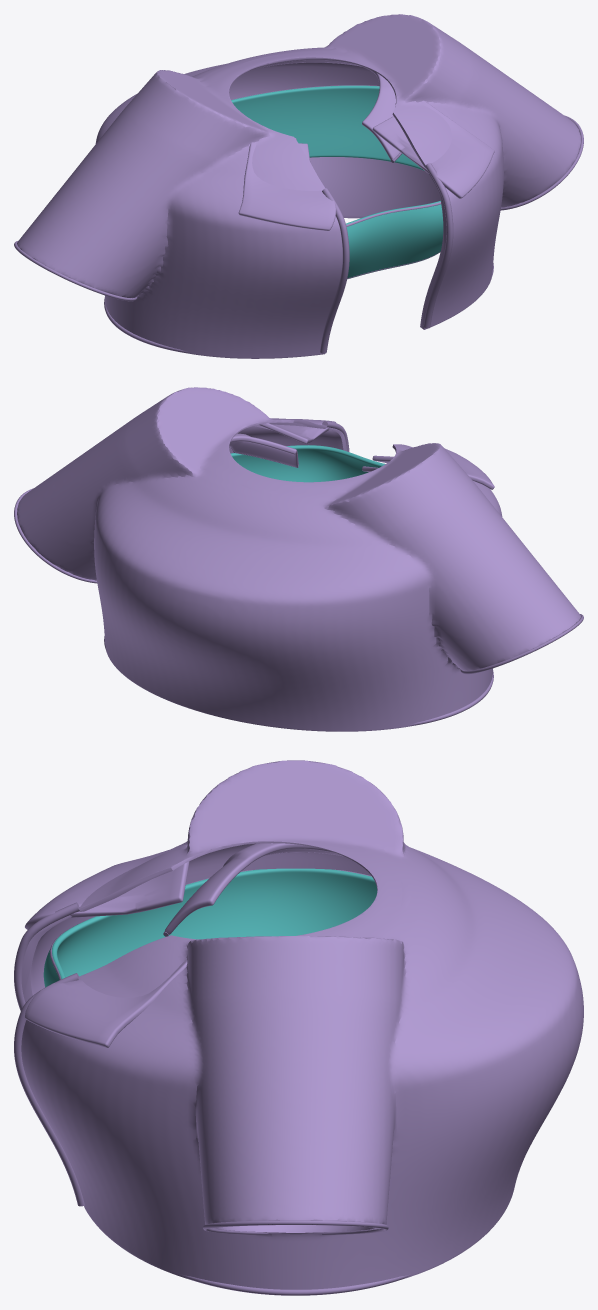
Rendered from Feminine-open-top.glb.
The picture shows the model from 3 angles, top to bottom: view 1: azimuth 30°, elevation 25°; view 2: azimuth 150°, elevation 25°; view 3: azimuth 270°, elevation 25°; orthographic projection. The views are drawn at different scales.
Parts seen in each view (by area): view 1: Clothing / open, Clothing / Bandeau underlayer, Open shirt / front collar leaf -1, Open shirt / front collar leaf 1, Open shirt / folded collar, Open shirt / placket.001 export, Open shirt / placket export, Sleeve / seated cuff -1 export, Sleeve / seated cuff 1 export; view 2: Clothing / open, Clothing / Bandeau underlayer, Open shirt / folded collar, Open shirt / front collar leaf 1, Open shirt / front collar leaf -1, Sleeve / seated cuff -1 export, Sleeve / seated cuff 1 export; view 3: Clothing / open, Clothing / Bandeau underlayer, Open shirt / front collar leaf 1, Open shirt / front collar leaf -1, Open shirt / folded collar, Open shirt / placket.001 export, Sleeve / seated cuff 1 export, Shirt / hem export, Open shirt / placket export.
Boxes of the visible parts, x1=… form: Clothing / open: x1=17, y1=14, x2=580, y2=358; Clothing / Bandeau underlayer: x1=231, y1=85, x2=443, y2=278; Open shirt / front collar leaf -1: x1=238, y1=142, x2=336, y2=230; Open shirt / front collar leaf 1: x1=372, y1=100, x2=494, y2=198; Open shirt / folded collar: x1=241, y1=54, x2=400, y2=159; Open shirt / placket.001 export: x1=423, y1=163, x2=453, y2=328; Open shirt / placket export: x1=320, y1=188, x2=349, y2=353; Sleeve / seated cuff -1 export: x1=14, y1=241, x2=137, y2=301; Sleeve / seated cuff 1 export: x1=500, y1=115, x2=583, y2=210; Clothing / open: x1=17, y1=387, x2=580, y2=731; Clothing / Bandeau underlayer: x1=230, y1=445, x2=385, y2=482; Open shirt / folded collar: x1=229, y1=433, x2=378, y2=493; Open shirt / front collar leaf 1: x1=253, y1=419, x2=335, y2=443; Open shirt / front collar leaf -1: x1=372, y1=448, x2=494, y2=489; Sleeve / seated cuff -1 export: x1=460, y1=614, x2=583, y2=674; Sleeve / seated cuff 1 export: x1=14, y1=488, x2=97, y2=583; Clothing / open: x1=21, y1=760, x2=583, y2=1289; Clothing / Bandeau underlayer: x1=43, y1=868, x2=377, y2=987; Open shirt / front collar leaf 1: x1=24, y1=960, x2=187, y2=1047; Open shirt / front collar leaf -1: x1=25, y1=844, x2=189, y2=929; Open shirt / folded collar: x1=164, y1=843, x2=411, y2=934; Open shirt / placket.001 export: x1=14, y1=973, x2=84, y2=1206; Sleeve / seated cuff 1 export: x1=203, y1=1220, x2=388, y2=1234; Shirt / hem export: x1=177, y1=1273, x2=413, y2=1295; Open shirt / placket export: x1=14, y1=902, x2=79, y2=1011.
Bounding box in the file's own units: 1.11 × 0.4493 × 0.7115.
